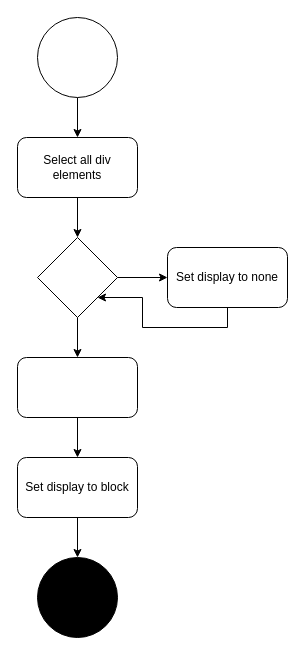
Some shapes in this 305 by 655 pixel diagram are drawn without their labels. Here are the shapes that lost their labels. From the top down, the centre of each, then its label:
At point (77, 277): "Loop through elements".
At point (77, 387): "Declare the active div element".
